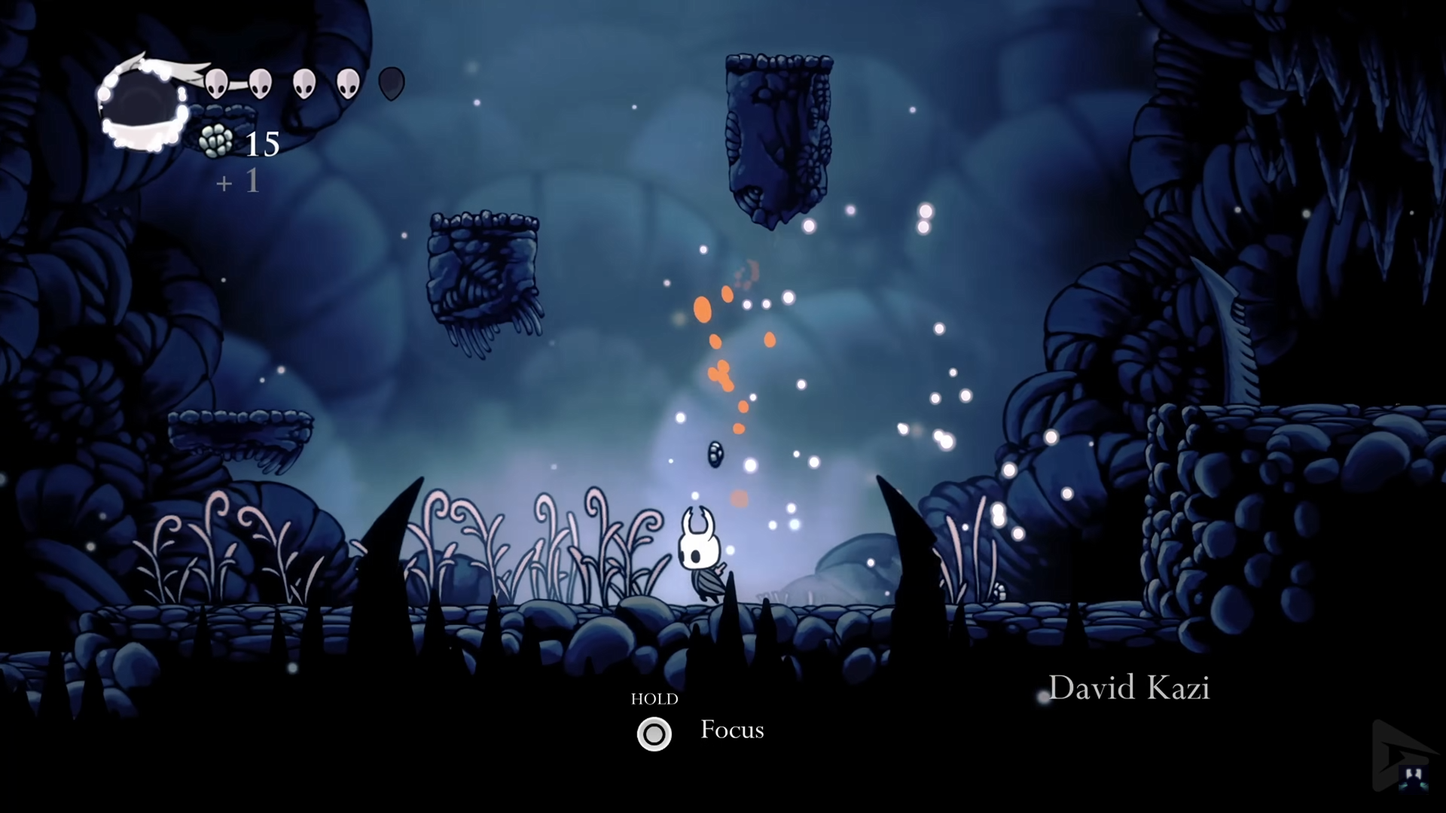HK: (674, 501, 731, 609)
